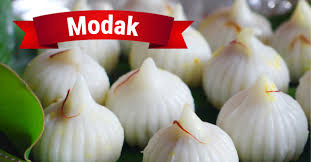modak: (24, 76, 125, 162), (212, 76, 311, 156), (116, 59, 205, 140), (12, 44, 112, 104), (204, 31, 289, 96)
